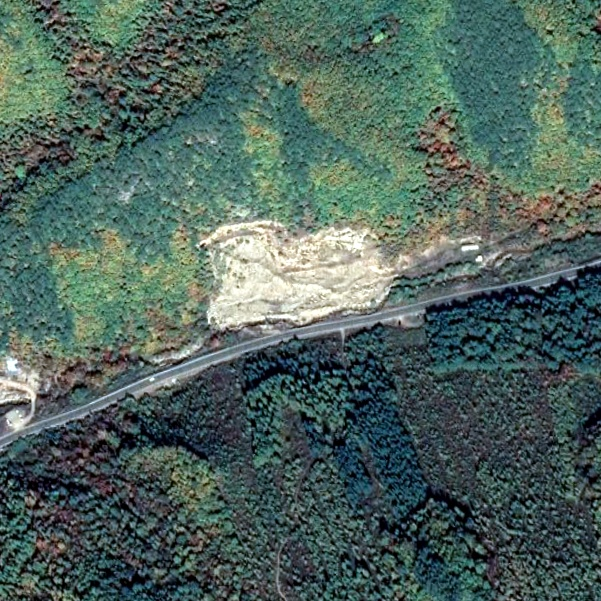slope: (189, 211, 425, 337)
